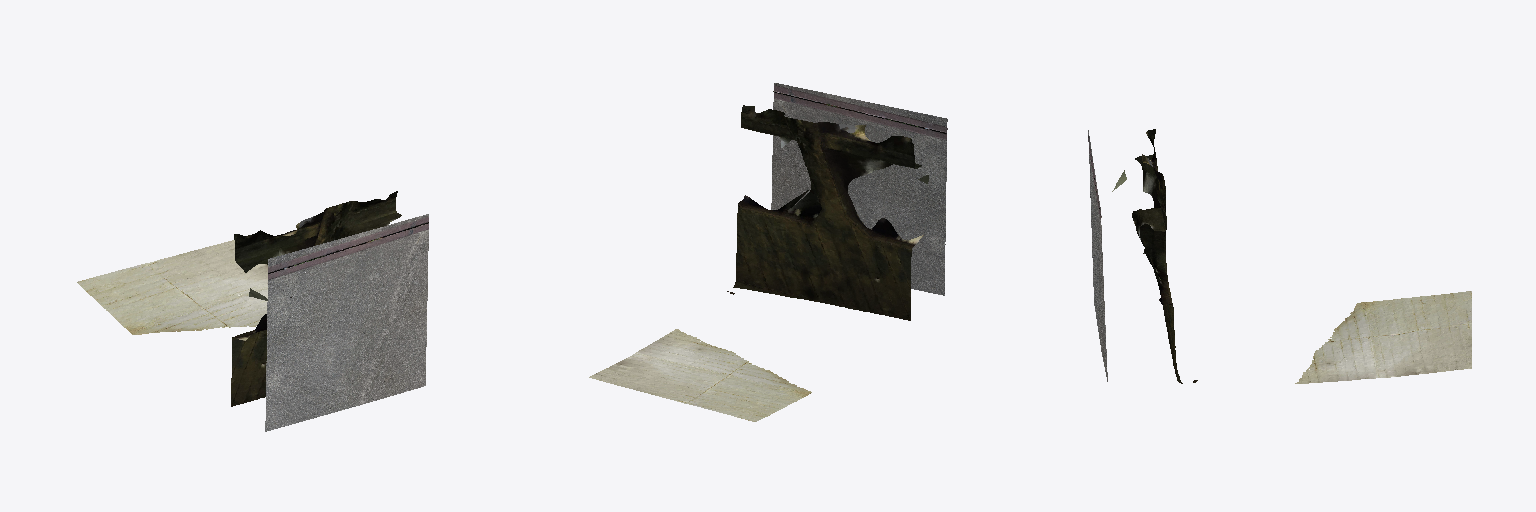
3 renders of one model, left to right at view 1: azimuth 30°, elevation 25°; view 2: azimuth 150°, elevation 25°; view 3: azimuth 270°, elevation 25°, orthographic.
Size of the model in its own units: 3.03 by 3.03 by 6.02.
Materials: 2 (1 with a texture image).